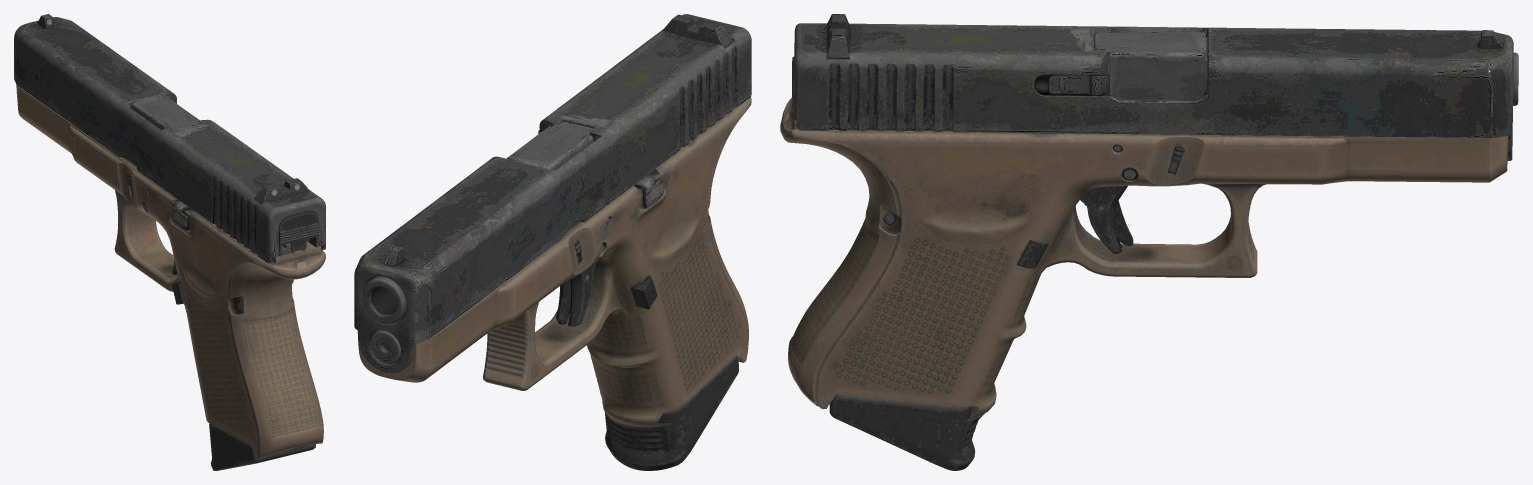
The model's file is glock18_r.glb.
3 renders of one model, left to right at view 1: azimuth 30°, elevation 25°; view 2: azimuth 150°, elevation 25°; view 3: azimuth 270°, elevation 25°, orthographic. The views are drawn at different scales.
Visible parts, largest first — view 1: v_glock18_R; view 2: v_glock18_R; view 3: v_glock18_R.
Boxes of the visible parts, x1=… form: v_glock18_R: x1=14, y1=14, x2=325, y2=470; v_glock18_R: x1=354, y1=14, x2=751, y2=470; v_glock18_R: x1=780, y1=14, x2=1518, y2=470.
Bounding box in the file's own units: 0.0306 × 0.1313 × 0.2019.
Materials: 1 (1 with a texture image).
